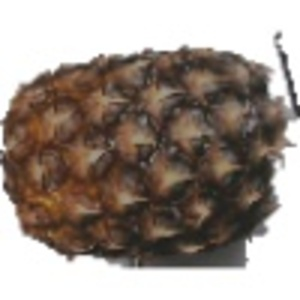abacaxi: (2, 36, 285, 258)
